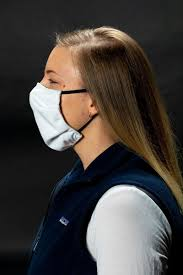with-mask: (27, 33, 157, 155)
